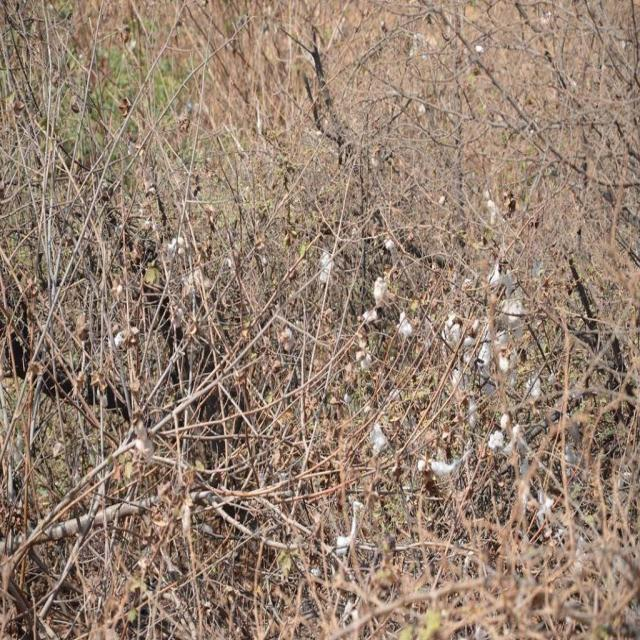Late_blight: (397, 311, 413, 337), (375, 278, 388, 306), (488, 434, 504, 452), (498, 414, 512, 430)
